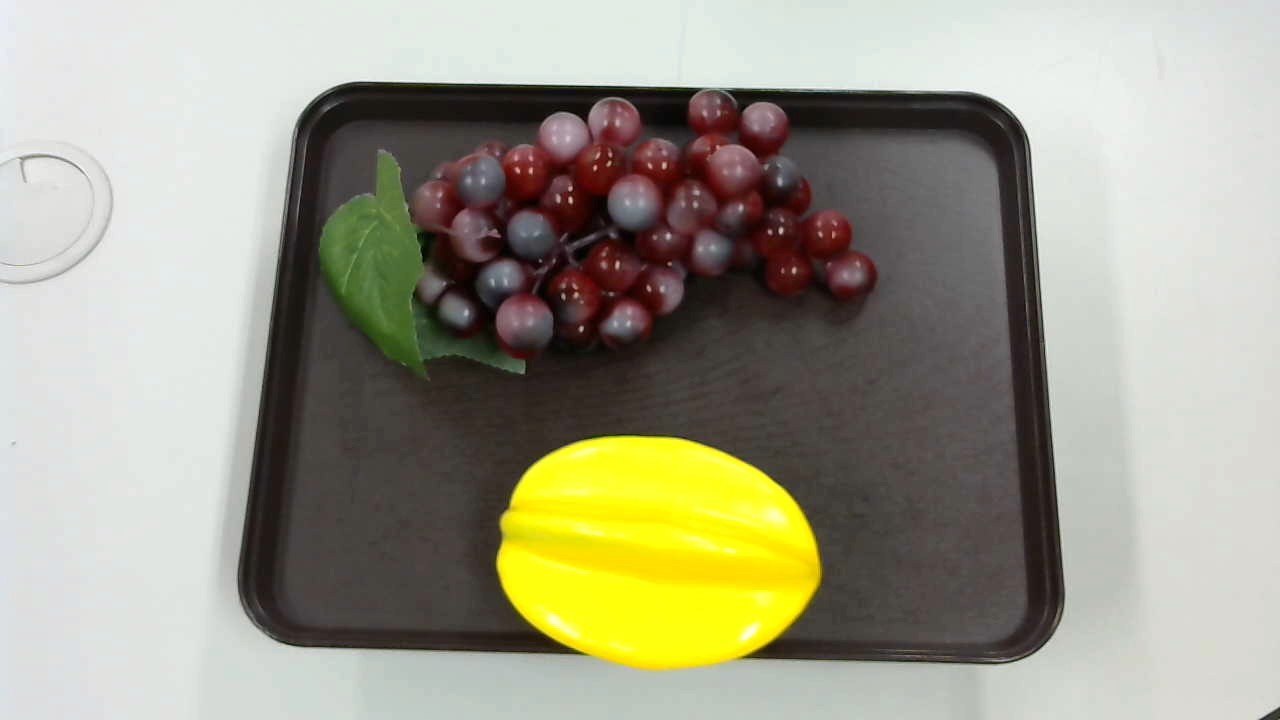grape: (307, 88, 888, 385)
star fruit: (491, 434, 830, 676)
